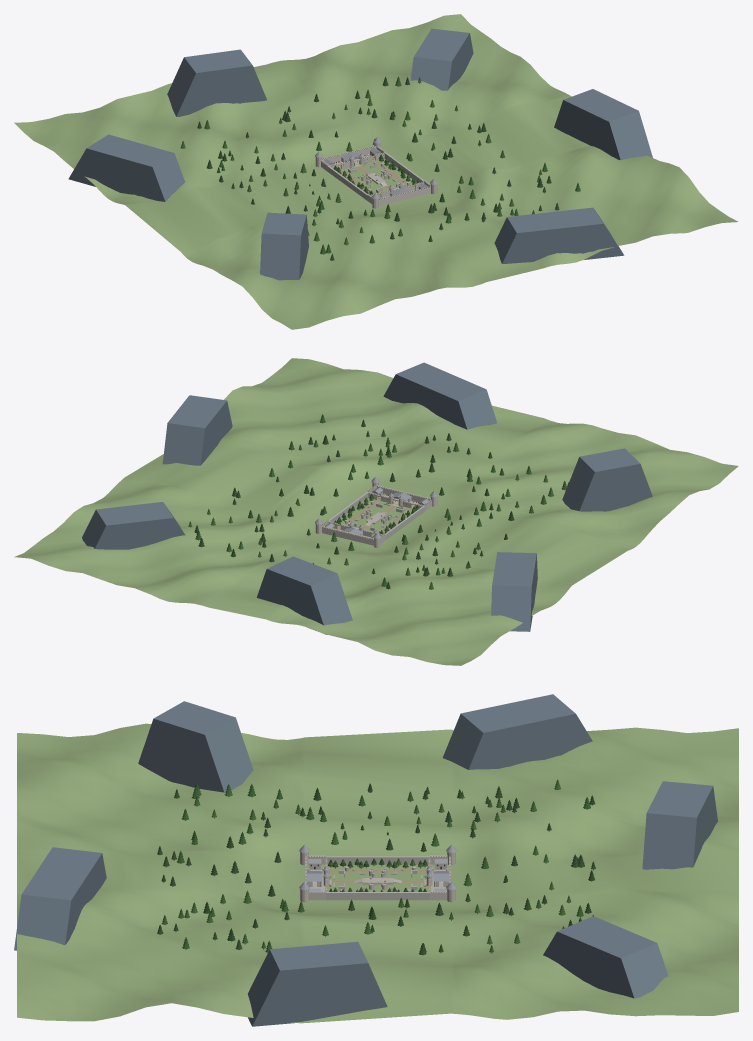
File: bastion.glb
3 views of the same model, one above another, from view 1: azimuth 30°, elevation 25°; view 2: azimuth 150°, elevation 25°; view 3: azimuth 270°, elevation 25° (orthographic). The views are drawn at different scales.
Parts seen in each view (by area): view 1: bastion_hill, bastion_far, bastion_pine, bastion_castle, bastion_grass, bastion_rock, bastion_slates; view 2: bastion_hill, bastion_far, bastion_pine, bastion_castle, bastion_grass, bastion_rock, bastion_slates; view 3: bastion_hill, bastion_far, bastion_pine, bastion_rock, bastion_castle, bastion_grass, bastion_slates.
Part boxes in pixels (x1,y1,x2,y2): bastion_hill: (14, 14, 738, 329); bastion_far: (68, 28, 652, 280); bastion_pine: (180, 76, 580, 260); bastion_castle: (315, 142, 437, 208); bastion_grass: (337, 154, 418, 197); bastion_rock: (327, 152, 424, 200); bastion_slates: (315, 137, 437, 198); bastion_hill: (14, 358, 738, 665); bastion_far: (82, 362, 652, 634); bastion_pine: (188, 414, 568, 589); bastion_castle: (315, 482, 437, 548); bastion_grass: (334, 494, 412, 537); bastion_rock: (329, 492, 425, 539); bastion_slates: (315, 477, 437, 538); bastion_hill: (17, 723, 738, 1023); bastion_far: (14, 694, 717, 1026); bastion_pine: (157, 779, 595, 955); bastion_rock: (307, 856, 448, 900); bastion_castle: (300, 852, 455, 902); bastion_grass: (307, 864, 448, 891); bastion_slates: (299, 845, 456, 891).
Bounding box in the file's own units: 534 × 52.01 × 562.
Materials: 15 (1 with a texture image).
